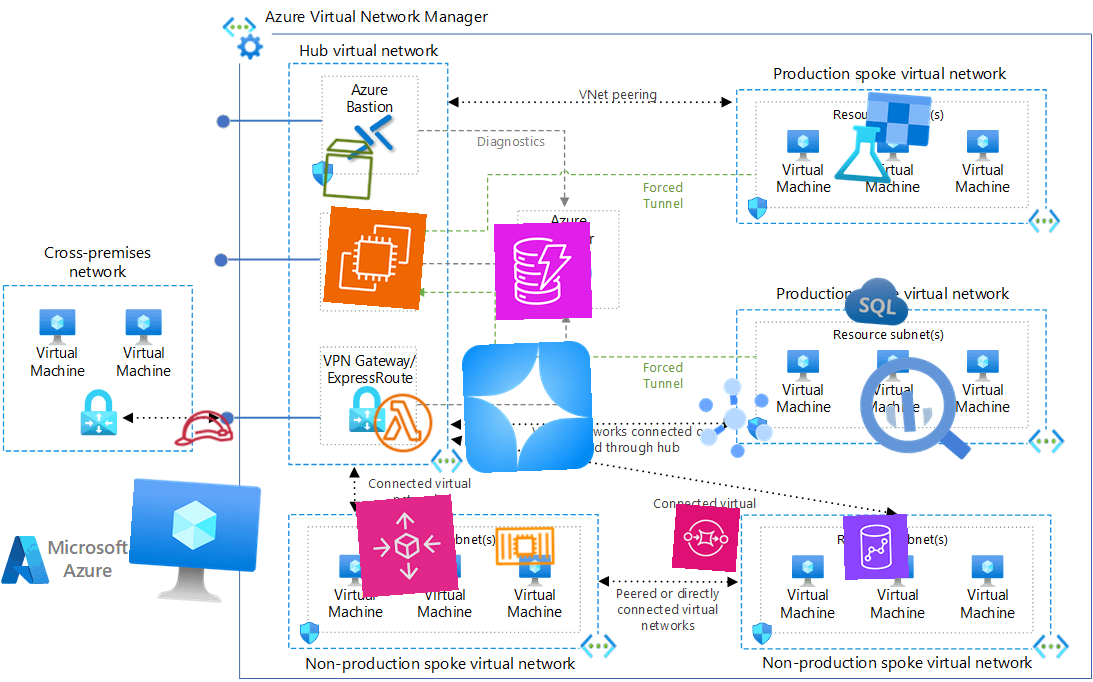aws_amazon_dynamodb: (493, 221, 593, 321)
aws_amazon_ec2: (323, 206, 427, 310)
aws_amazon_redshift: (843, 514, 909, 580)
aws_amazon_simple_queue_service: (671, 503, 741, 573)
aws_auto_scaling: (355, 494, 459, 598)
aws_elastic_block_store_volume: (314, 134, 384, 204)
aws_elastic_container_service_container_2: (492, 513, 558, 579)
aws_identity_access_management_role: (168, 393, 238, 463)
aws_lambda_lambda_function: (369, 389, 437, 457)
azure_machine_learning_studio_workspaces: (831, 86, 935, 190)
azure_openai: (461, 340, 595, 474)
azure_sql: (842, 267, 912, 337)
azure_virtual_machine: (125, 476, 263, 614)
gcp_bigquery: (844, 340, 984, 480)
gcp_pubsub: (683, 366, 787, 470)
